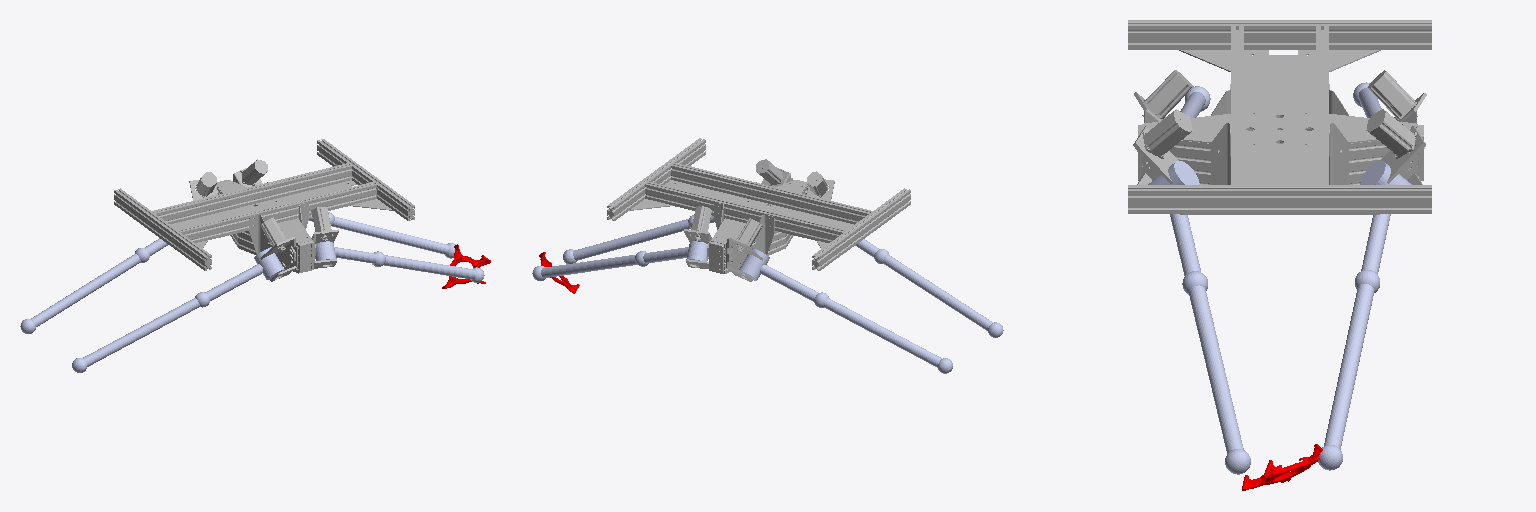
URDF robot description (Ragnar):
<?xml version="1.0" ?>
<!-- =================================================================================== -->
<!-- |    This document was autogenerated by xacro from ragnar.xacro                   | -->
<!-- |    EDITING THIS FILE BY HAND IS NOT RECOMMENDED                                 | -->
<!-- =================================================================================== -->
<robot name="Ragnar" xmlns:xacro="http://ros.org/wiki/xacro">
  <link name="world"/>
  <joint name="world_to_base" type="fixed">
    <child link="base_link"/>
    <parent link="world"/>
  </joint>
  <link name="base_link">
    <inertial>
      <origin rpy="0 0 0" xyz="-4.80572213006859E-06 9.64495107789746E-06 -0.0184680705713898"/>
      <mass value="26.5217124601092"/>
      <inertia ixx="0.936457909215975" ixy="-0.00108838510526368" ixz="1.58187182756307E-06" iyy="1.50216890338436" iyz="1.0107984651762E-05" izz="2.28323593907717"/>
    </inertial>
    <visual>
      <origin rpy="0 0 0" xyz="0 0 0"/>
      <geometry>
        <mesh filename="package://ragnar_support/meshes/base_link.STL"/>
      </geometry>
      <material name="">
        <color rgba="0.752941176470588 0.752941176470588 0.752941176470588 1"/>
      </material>
    </visual>
    <collision>
      <origin rpy="0 0 0" xyz="0 0 0"/>
      <geometry>
        <mesh filename="package://ragnar_support/meshes/base_link.STL"/>
      </geometry>
    </collision>
  </link>
  <link name="upper_arm_1">
    <visual>
      <origin rpy="0 1.57 0" xyz="0 0 0"/>
      <geometry>
        <cylinder length="0.1" radius="0.04"/>
      </geometry>
      <material name="">
        <color rgba="0.792156862745098 0.819607843137255 0.933333333333333 1"/>
      </material>
    </visual>
    <visual>
      <origin rpy="1.57 0 0" xyz="0 0.15 0"/>
      <geometry>
        <cylinder length="0.3" radius="0.02"/>
      </geometry>
      <material name="">
        <color rgba="0.792156862745098 0.819607843137255 0.933333333333333 1"/>
      </material>
    </visual>
    <collision>
      <origin rpy="0 1.57 0" xyz="0 0 0"/>
      <geometry>
        <cylinder length="0.1" radius="0.04"/>
      </geometry>
      <material name="">
        <color rgba="0.792156862745098 0.819607843137255 0.933333333333333 1"/>
      </material>
    </collision>
    <collision>
      <origin rpy="1.57 0 0" xyz="0 0.15 0"/>
      <geometry>
        <cylinder length="0.3" radius="0.02"/>
      </geometry>
      <material name="">
        <color rgba="0.792156862745098 0.819607843137255 0.933333333333333 1"/>
      </material>
    </collision>
  </link>
  <joint name="a1_j1" type="revolute">
    <origin rpy="-0.577 -0.783 -1.311" xyz="0.122 0.249 -0.0877"/>
    <parent link="base_link"/>
    <child link="upper_arm_1"/>
    <axis xyz="-1.0 0 0"/>
    <limit effort="0" lower="-3.1416" upper="3.1416" velocity="2.618"/>
  </joint>
  <link name="lower_arm_1_pitch"/>
  <link name="lower_arm_1_yaw">
    <visual>
      <origin rpy="0 0 0" xyz="0 0 0"/>
      <geometry>
        <sphere radius="0.03"/>
      </geometry>
      <material name="">
        <color rgba="0.792156862745098 0.819607843137255 0.933333333333333 1"/>
      </material>
    </visual>
    <visual>
      <origin rpy="1.57 0 0" xyz="0 0.275 0"/>
      <geometry>
        <cylinder length="0.55" radius="0.02"/>
      </geometry>
      <material name="">
        <color rgba="0.792156862745098 0.819607843137255 0.933333333333333 1"/>
      </material>
    </visual>
    <visual>
      <origin rpy="0 0 0" xyz="0 0.55 0"/>
      <geometry>
        <sphere radius="0.03"/>
      </geometry>
      <material name="">
        <color rgba="0.792156862745098 0.819607843137255 0.933333333333333 1"/>
      </material>
    </visual>
    <collision>
      <origin rpy="0 1.57 0" xyz="0 0 0"/>
      <geometry>
        <cylinder length="0.1" radius="0.04"/>
      </geometry>
      <material name="">
        <color rgba="0.792156862745098 0.819607843137255 0.933333333333333 1"/>
      </material>
    </collision>
    <collision>
      <origin rpy="1.57 0 0" xyz="0 0.275 0"/>
      <geometry>
        <cylinder length="0.55" radius="0.02"/>
      </geometry>
      <material name="">
        <color rgba="0.792156862745098 0.819607843137255 0.933333333333333 1"/>
      </material>
    </collision>
  </link>
  <joint name="a1_j2_pitch" type="revolute">
    <origin rpy="0 0 0" xyz="0 0.3 0"/>
    <parent link="upper_arm_1"/>
    <child link="lower_arm_1_pitch"/>
    <axis xyz="-1.0 0 0"/>
    <limit effort="0" lower="-3.1416" upper="3.1416" velocity="2.618"/>
  </joint>
  <joint name="a1_j2_yaw" type="revolute">
    <origin rpy="0 0 0" xyz="0 0 0"/>
    <parent link="lower_arm_1_pitch"/>
    <child link="lower_arm_1_yaw"/>
    <axis xyz="0 0 1.0"/>
    <limit effort="0" lower="-3.1416" upper="3.1416" velocity="2.618"/>
  </joint>
  <link name="upper_arm_2">
    <visual>
      <origin rpy="0 1.57 0" xyz="0 0 0"/>
      <geometry>
        <cylinder length="0.1" radius="0.04"/>
      </geometry>
      <material name="">
        <color rgba="0.792156862745098 0.819607843137255 0.933333333333333 1"/>
      </material>
    </visual>
    <visual>
      <origin rpy="1.57 0 0" xyz="0 0.15 0"/>
      <geometry>
        <cylinder length="0.3" radius="0.02"/>
      </geometry>
      <material name="">
        <color rgba="0.792156862745098 0.819607843137255 0.933333333333333 1"/>
      </material>
    </visual>
    <collision>
      <origin rpy="0 1.57 0" xyz="0 0 0"/>
      <geometry>
        <cylinder length="0.1" radius="0.04"/>
      </geometry>
      <material name="">
        <color rgba="0.792156862745098 0.819607843137255 0.933333333333333 1"/>
      </material>
    </collision>
    <collision>
      <origin rpy="1.57 0 0" xyz="0 0.15 0"/>
      <geometry>
        <cylinder length="0.3" radius="0.02"/>
      </geometry>
      <material name="">
        <color rgba="0.792156862745098 0.819607843137255 0.933333333333333 1"/>
      </material>
    </collision>
  </link>
  <joint name="a2_j1" type="revolute">
    <origin rpy="-2.698 -0.788 -1.834" xyz="-0.122 0.249 -0.0877"/>
    <parent link="base_link"/>
    <child link="upper_arm_2"/>
    <axis xyz="-1.0 0 0"/>
    <limit effort="0" lower="-3.1416" upper="3.1416" velocity="2.618"/>
  </joint>
  <link name="lower_arm_2_pitch"/>
  <link name="lower_arm_2_yaw">
    <visual>
      <origin rpy="0 0 0" xyz="0 0 0"/>
      <geometry>
        <sphere radius="0.03"/>
      </geometry>
      <material name="">
        <color rgba="0.792156862745098 0.819607843137255 0.933333333333333 1"/>
      </material>
    </visual>
    <visual>
      <origin rpy="1.57 0 0" xyz="0 0.275 0"/>
      <geometry>
        <cylinder length="0.55" radius="0.02"/>
      </geometry>
      <material name="">
        <color rgba="0.792156862745098 0.819607843137255 0.933333333333333 1"/>
      </material>
    </visual>
    <visual>
      <origin rpy="0 0 0" xyz="0 0.55 0"/>
      <geometry>
        <sphere radius="0.03"/>
      </geometry>
      <material name="">
        <color rgba="0.792156862745098 0.819607843137255 0.933333333333333 1"/>
      </material>
    </visual>
    <collision>
      <origin rpy="0 1.57 0" xyz="0 0 0"/>
      <geometry>
        <cylinder length="0.1" radius="0.04"/>
      </geometry>
      <material name="">
        <color rgba="0.792156862745098 0.819607843137255 0.933333333333333 1"/>
      </material>
    </collision>
    <collision>
      <origin rpy="1.57 0 0" xyz="0 0.275 0"/>
      <geometry>
        <cylinder length="0.55" radius="0.02"/>
      </geometry>
      <material name="">
        <color rgba="0.792156862745098 0.819607843137255 0.933333333333333 1"/>
      </material>
    </collision>
  </link>
  <joint name="a2_j2_pitch" type="revolute">
    <origin rpy="0 0 0" xyz="0 0.3 0"/>
    <parent link="upper_arm_2"/>
    <child link="lower_arm_2_pitch"/>
    <axis xyz="-1.0 0 0"/>
    <limit effort="0" lower="-3.1416" upper="3.1416" velocity="2.618"/>
  </joint>
  <joint name="a2_j2_yaw" type="revolute">
    <origin rpy="0 0 0" xyz="0 0 0"/>
    <parent link="lower_arm_2_pitch"/>
    <child link="lower_arm_2_yaw"/>
    <axis xyz="0 0 1.0"/>
    <limit effort="0" lower="-3.1416" upper="3.1416" velocity="2.618"/>
  </joint>
  <link name="upper_arm_3">
    <visual>
      <origin rpy="0 1.57 0" xyz="0 0 0"/>
      <geometry>
        <cylinder length="0.1" radius="0.04"/>
      </geometry>
      <material name="">
        <color rgba="0.792156862745098 0.819607843137255 0.933333333333333 1"/>
      </material>
    </visual>
    <visual>
      <origin rpy="1.57 0 0" xyz="0 0.15 0"/>
      <geometry>
        <cylinder length="0.3" radius="0.02"/>
      </geometry>
      <material name="">
        <color rgba="0.792156862745098 0.819607843137255 0.933333333333333 1"/>
      </material>
    </visual>
    <collision>
      <origin rpy="0 1.57 0" xyz="0 0 0"/>
      <geometry>
        <cylinder length="0.1" radius="0.04"/>
      </geometry>
      <material name="">
        <color rgba="0.792156862745098 0.819607843137255 0.933333333333333 1"/>
      </material>
    </collision>
    <collision>
      <origin rpy="1.57 0 0" xyz="0 0.15 0"/>
      <geometry>
        <cylinder length="0.3" radius="0.02"/>
      </geometry>
      <material name="">
        <color rgba="0.792156862745098 0.819607843137255 0.933333333333333 1"/>
      </material>
    </collision>
  </link>
  <joint name="a3_j1" type="revolute">
    <origin rpy="-0.456 -0.783 1.831" xyz="-0.122 -0.249 -0.0877"/>
    <parent link="base_link"/>
    <child link="upper_arm_3"/>
    <axis xyz="-1.0 0 0"/>
    <limit effort="0" lower="-3.1416" upper="3.1416" velocity="2.618"/>
  </joint>
  <link name="lower_arm_3_pitch"/>
  <link name="lower_arm_3_yaw">
    <visual>
      <origin rpy="0 0 0" xyz="0 0 0"/>
      <geometry>
        <sphere radius="0.03"/>
      </geometry>
      <material name="">
        <color rgba="0.792156862745098 0.819607843137255 0.933333333333333 1"/>
      </material>
    </visual>
    <visual>
      <origin rpy="1.57 0 0" xyz="0 0.275 0"/>
      <geometry>
        <cylinder length="0.55" radius="0.02"/>
      </geometry>
      <material name="">
        <color rgba="0.792156862745098 0.819607843137255 0.933333333333333 1"/>
      </material>
    </visual>
    <visual>
      <origin rpy="0 0 0" xyz="0 0.55 0"/>
      <geometry>
        <sphere radius="0.03"/>
      </geometry>
      <material name="">
        <color rgba="0.792156862745098 0.819607843137255 0.933333333333333 1"/>
      </material>
    </visual>
    <collision>
      <origin rpy="0 1.57 0" xyz="0 0 0"/>
      <geometry>
        <cylinder length="0.1" radius="0.04"/>
      </geometry>
      <material name="">
        <color rgba="0.792156862745098 0.819607843137255 0.933333333333333 1"/>
      </material>
    </collision>
    <collision>
      <origin rpy="1.57 0 0" xyz="0 0.275 0"/>
      <geometry>
        <cylinder length="0.55" radius="0.02"/>
      </geometry>
      <material name="">
        <color rgba="0.792156862745098 0.819607843137255 0.933333333333333 1"/>
      </material>
    </collision>
  </link>
  <joint name="a3_j2_pitch" type="revolute">
    <origin rpy="0 0 0" xyz="0 0.3 0"/>
    <parent link="upper_arm_3"/>
    <child link="lower_arm_3_pitch"/>
    <axis xyz="-1.0 0 0"/>
    <limit effort="0" lower="-3.1416" upper="3.1416" velocity="2.618"/>
  </joint>
  <joint name="a3_j2_yaw" type="revolute">
    <origin rpy="0 0 0" xyz="0 0 0"/>
    <parent link="lower_arm_3_pitch"/>
    <child link="lower_arm_3_yaw"/>
    <axis xyz="0 0 1.0"/>
    <limit effort="0" lower="-3.1416" upper="3.1416" velocity="2.618"/>
  </joint>
  <link name="upper_arm_4">
    <visual>
      <origin rpy="0 1.57 0" xyz="0 0 0"/>
      <geometry>
        <cylinder length="0.1" radius="0.04"/>
      </geometry>
      <material name="">
        <color rgba="0.792156862745098 0.819607843137255 0.933333333333333 1"/>
      </material>
    </visual>
    <visual>
      <origin rpy="1.57 0 0" xyz="0 0.15 0"/>
      <geometry>
        <cylinder length="0.3" radius="0.02"/>
      </geometry>
      <material name="">
        <color rgba="0.792156862745098 0.819607843137255 0.933333333333333 1"/>
      </material>
    </visual>
    <collision>
      <origin rpy="0 1.57 0" xyz="0 0 0"/>
      <geometry>
        <cylinder length="0.1" radius="0.04"/>
      </geometry>
      <material name="">
        <color rgba="0.792156862745098 0.819607843137255 0.933333333333333 1"/>
      </material>
    </collision>
    <collision>
      <origin rpy="1.57 0 0" xyz="0 0.15 0"/>
      <geometry>
        <cylinder length="0.3" radius="0.02"/>
      </geometry>
      <material name="">
        <color rgba="0.792156862745098 0.819607843137255 0.933333333333333 1"/>
      </material>
    </collision>
  </link>
  <joint name="a4_j1" type="revolute">
    <origin rpy="-2.531 -0.788 1.307" xyz="0.122 -0.249 -0.0877"/>
    <parent link="base_link"/>
    <child link="upper_arm_4"/>
    <axis xyz="-1.0 0 0"/>
    <limit effort="0" lower="-3.1416" upper="3.1416" velocity="2.618"/>
  </joint>
  <link name="lower_arm_4_pitch"/>
  <link name="lower_arm_4_yaw">
    <visual>
      <origin rpy="0 0 0" xyz="0 0 0"/>
      <geometry>
        <sphere radius="0.03"/>
      </geometry>
      <material name="">
        <color rgba="0.792156862745098 0.819607843137255 0.933333333333333 1"/>
      </material>
    </visual>
    <visual>
      <origin rpy="1.57 0 0" xyz="0 0.275 0"/>
      <geometry>
        <cylinder length="0.55" radius="0.02"/>
      </geometry>
      <material name="">
        <color rgba="0.792156862745098 0.819607843137255 0.933333333333333 1"/>
      </material>
    </visual>
    <visual>
      <origin rpy="0 0 0" xyz="0 0.55 0"/>
      <geometry>
        <sphere radius="0.03"/>
      </geometry>
      <material name="">
        <color rgba="0.792156862745098 0.819607843137255 0.933333333333333 1"/>
      </material>
    </visual>
    <collision>
      <origin rpy="0 1.57 0" xyz="0 0 0"/>
      <geometry>
        <cylinder length="0.1" radius="0.04"/>
      </geometry>
      <material name="">
        <color rgba="0.792156862745098 0.819607843137255 0.933333333333333 1"/>
      </material>
    </collision>
    <collision>
      <origin rpy="1.57 0 0" xyz="0 0.275 0"/>
      <geometry>
        <cylinder length="0.55" radius="0.02"/>
      </geometry>
      <material name="">
        <color rgba="0.792156862745098 0.819607843137255 0.933333333333333 1"/>
      </material>
    </collision>
  </link>
  <joint name="a4_j2_pitch" type="revolute">
    <origin rpy="0 0 0" xyz="0 0.3 0"/>
    <parent link="upper_arm_4"/>
    <child link="lower_arm_4_pitch"/>
    <axis xyz="-1.0 0 0"/>
    <limit effort="0" lower="-3.1416" upper="3.1416" velocity="2.618"/>
  </joint>
  <joint name="a4_j2_yaw" type="revolute">
    <origin rpy="0 0 0" xyz="0 0 0"/>
    <parent link="lower_arm_4_pitch"/>
    <child link="lower_arm_4_yaw"/>
    <axis xyz="0 0 1.0"/>
    <limit effort="0" lower="-3.1416" upper="3.1416" velocity="2.618"/>
  </joint>
  <link name="ee_link_r">
    
  </link>
  <joint name="ee_joint_roll" type="revolute">
    <origin rpy="0 0 0" xyz="0 0.550 0"/>
    <parent link="lower_arm_1_yaw"/>
    <child link="ee_link_r"/>
    <axis xyz="0 0 1"/>
    <limit effort="0" lower="-3.1416" upper="3.1416" velocity="2.618"/>
  </joint>
  <link name="ee_link_p">
    
  </link>
  <joint name="ee_joint_pitch" type="revolute">
    <origin rpy="0 0 0" xyz="0 0 0"/>
    <parent link="ee_link_r"/>
    <child link="ee_link_p"/>
    <axis xyz="1 0 0"/>
    <limit effort="0" lower="-3.1416" upper="3.1416" velocity="2.618"/>
  </joint>
  <link name="ee_link_y">
    <visual>
      <origin rpy="0 0 0" xyz="0 0 0"/>
      <geometry>
        <mesh filename="package://ragnar_support/meshes/ee_link_y.STL"/>
      </geometry>
      <material name="">
        <color rgba="1 0 0 1"/>
      </material>
    </visual>
    <collision>
      <origin rpy="0 0 0" xyz="0 0 0"/>
      <geometry>
        <mesh filename="package://ragnar_support/meshes/ee_link_y.STL"/>
      </geometry>
    </collision>
  </link>
  <joint name="ee_joint_yaw" type="revolute">
    <origin rpy="5.55111512312578E-17 -2.77555756156289E-17 0" xyz="0 0 0"/>
    <parent link="ee_link_p"/>
    <child link="ee_link_y"/>
    <axis xyz="0 -1 0"/>
    <limit effort="0" lower="-3.1416" upper="3.1416" velocity="2.618"/>
  </joint>
</robot>

--- Render facts (derived) ---
Views: 3 orthographic renders of the robot side by side, from view 1: azimuth 30°, elevation 25°; view 2: azimuth 150°, elevation 25°; view 3: azimuth 270°, elevation 25°.
Model Ragnar with 17 links and 16 joints (15 revolute, 1 fixed), rooted at world, posed every joint at zero.
Links seen in each view (by area): view 1: base_link, lower_arm_3_yaw, lower_arm_2_yaw, lower_arm_1_yaw, lower_arm_4_yaw, upper_arm_3, upper_arm_4, ee_link_y; view 2: base_link, lower_arm_2_yaw, lower_arm_3_yaw, lower_arm_4_yaw, lower_arm_1_yaw, upper_arm_2, upper_arm_1; view 3: base_link, lower_arm_4_yaw, lower_arm_1_yaw, upper_arm_4, upper_arm_1, ee_link_y, lower_arm_3_yaw, lower_arm_2_yaw.
Link boxes in pixels (x1,y1,x2,y2): base_link: (114, 139, 414, 281); lower_arm_3_yaw: (72, 292, 209, 372); lower_arm_2_yaw: (20, 248, 149, 333); lower_arm_1_yaw: (328, 212, 455, 258); lower_arm_4_yaw: (372, 251, 484, 282); upper_arm_3: (205, 247, 284, 300); upper_arm_4: (315, 241, 377, 264); ee_link_y: (442, 244, 490, 288); base_link: (607, 138, 910, 281); lower_arm_2_yaw: (814, 292, 952, 373); lower_arm_3_yaw: (874, 249, 1003, 337); lower_arm_4_yaw: (563, 215, 693, 263); lower_arm_1_yaw: (532, 251, 648, 280); upper_arm_2: (739, 248, 817, 301); upper_arm_1: (643, 241, 707, 265); base_link: (1128, 20, 1431, 214); lower_arm_4_yaw: (1182, 271, 1250, 474); lower_arm_1_yaw: (1318, 270, 1379, 470); upper_arm_4: (1148, 161, 1200, 275); upper_arm_1: (1360, 161, 1411, 273); ee_link_y: (1242, 444, 1322, 490); lower_arm_3_yaw: (1180, 86, 1210, 117); lower_arm_2_yaw: (1353, 82, 1381, 117).
Bounding box of the posed robot: 1.95 × 0.7 × 0.6213 m (x, y, z).
2 mesh visuals loaded from 2 distinct referenced files (2 binary STL).
